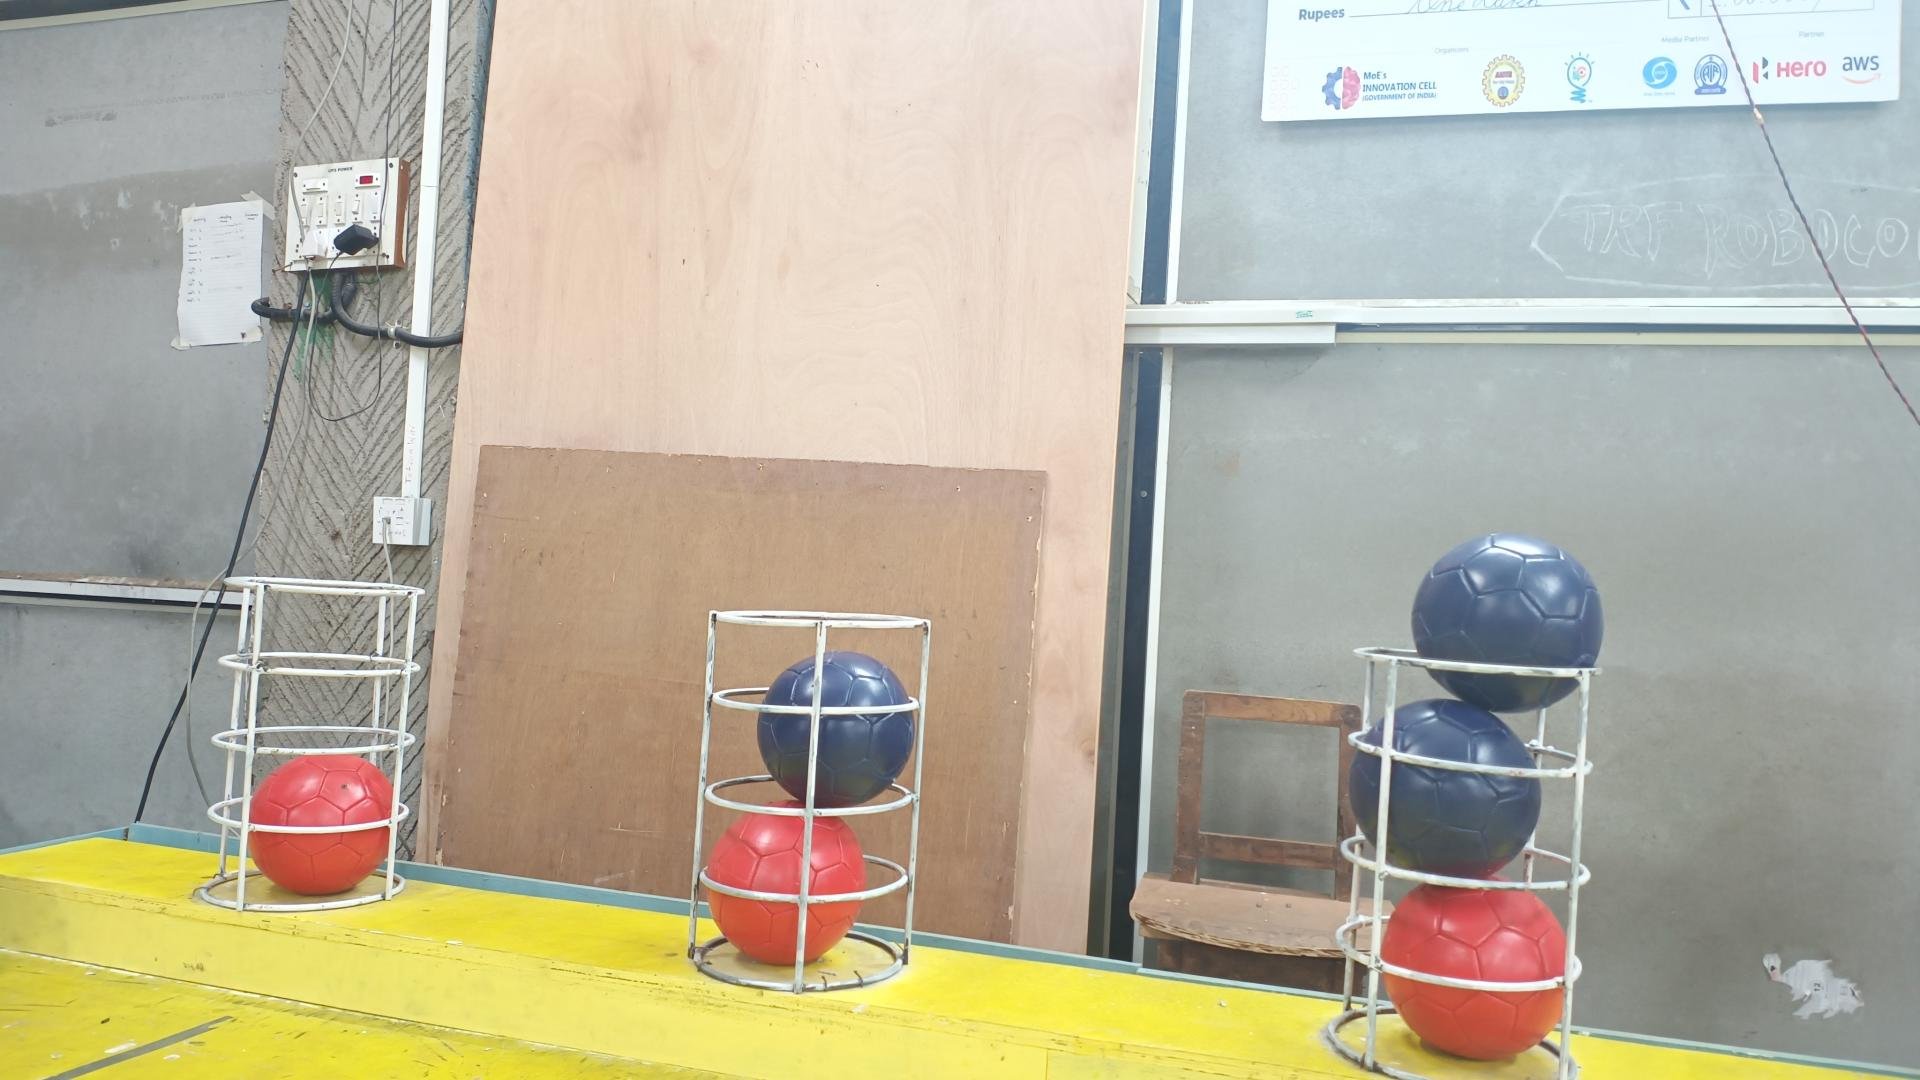dhoka: (1348, 700, 1543, 881), (1412, 533, 1604, 712), (760, 646, 918, 807)
laale: (1381, 882, 1572, 1059), (705, 799, 870, 968), (245, 756, 390, 898)
